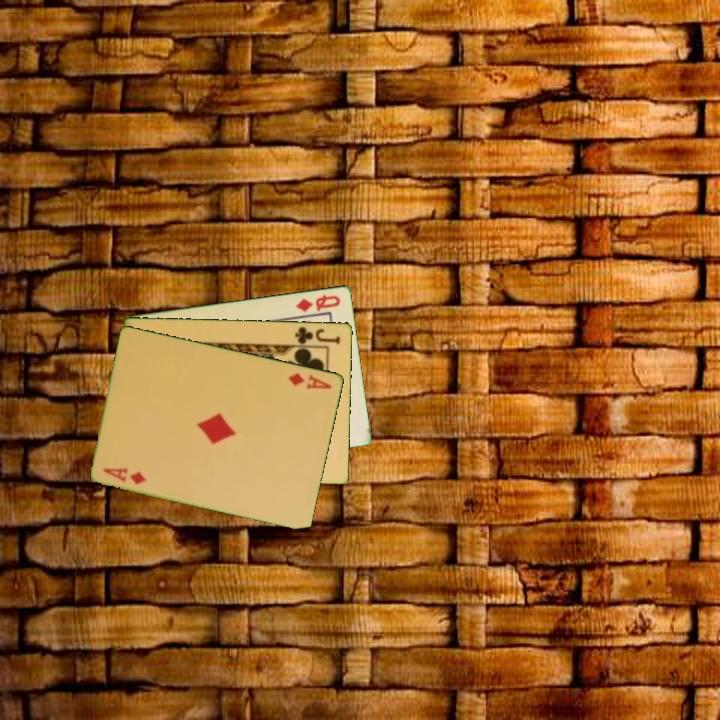Ad: (285, 369, 335, 392), (100, 464, 150, 487)
Jc: (292, 323, 343, 347)
Qd: (292, 290, 343, 314)
